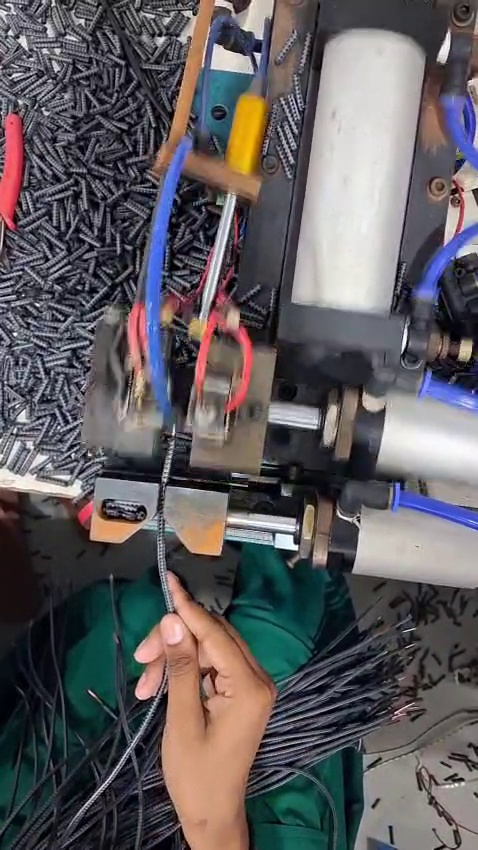machine: (67, 303, 310, 533)
peeled_wire: (156, 406, 188, 466)
